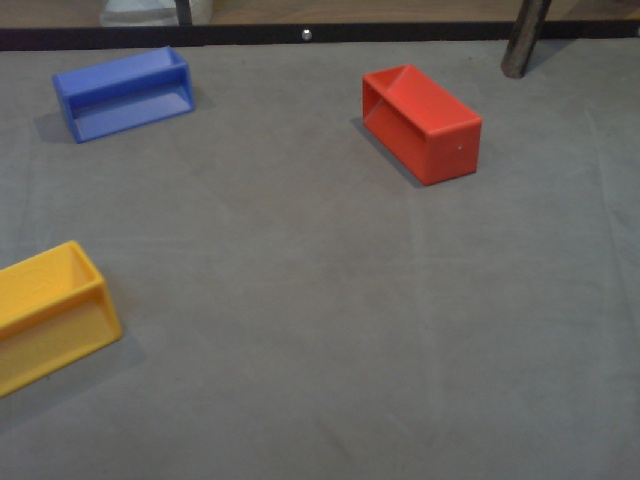BlueSample: (54, 43, 197, 143)
RedSample: (358, 61, 484, 187)
YellowSample: (1, 235, 129, 410)
